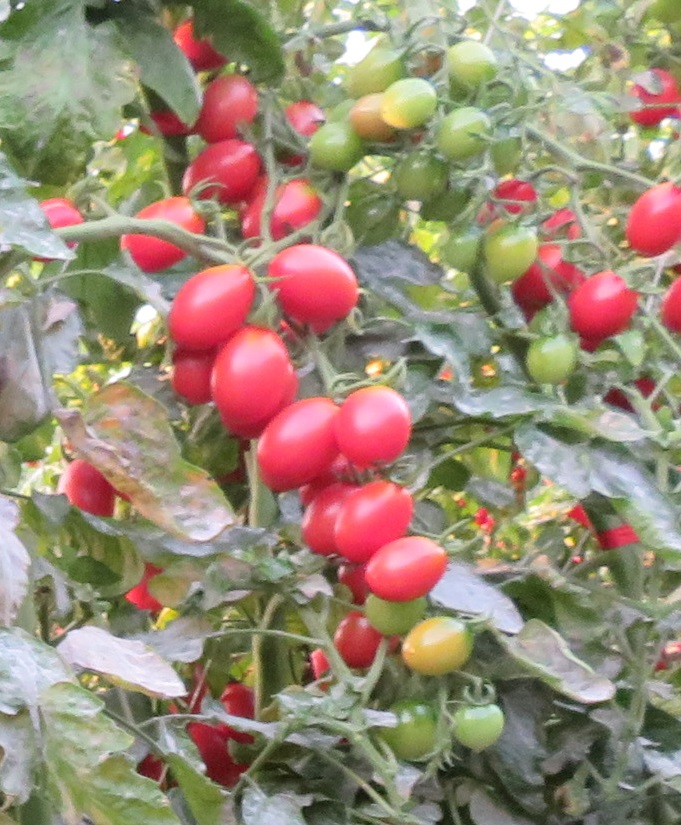green: (402, 613, 476, 676), (375, 707, 452, 757), (482, 224, 541, 286), (379, 78, 447, 130), (450, 694, 505, 752), (434, 106, 494, 157), (527, 333, 578, 392), (442, 40, 501, 91), (393, 153, 450, 204), (343, 191, 400, 241), (436, 224, 492, 268), (303, 118, 350, 169), (346, 84, 386, 142)
red: (214, 325, 291, 441), (252, 383, 336, 481), (261, 248, 358, 325), (168, 262, 251, 350), (334, 381, 412, 474), (112, 198, 205, 271), (332, 479, 411, 561), (363, 535, 450, 603), (245, 174, 328, 242), (184, 139, 265, 203), (621, 172, 681, 257), (193, 70, 256, 141), (566, 271, 634, 333), (56, 459, 127, 518), (34, 198, 85, 264), (332, 609, 384, 669), (625, 68, 679, 124), (214, 685, 262, 743), (170, 350, 215, 406), (123, 558, 167, 613)
